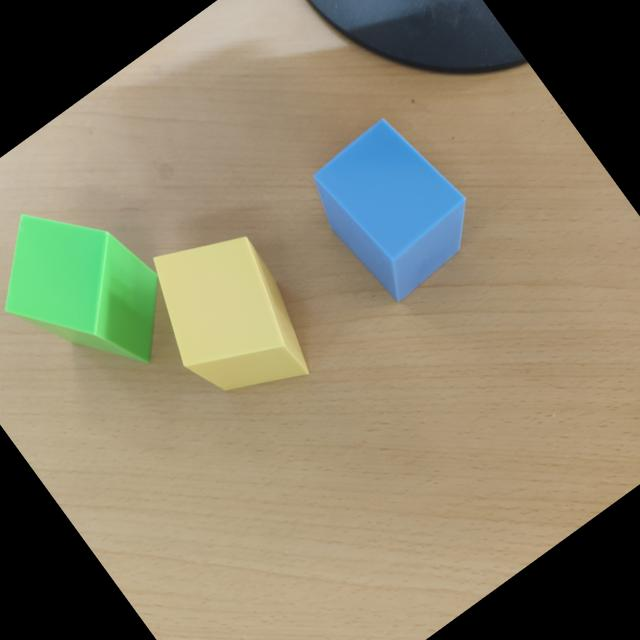blue: (313, 119, 468, 302)
green: (4, 214, 161, 365)
yellow: (154, 236, 309, 392)
